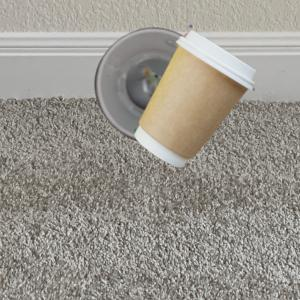cup: (134, 28, 257, 169)
